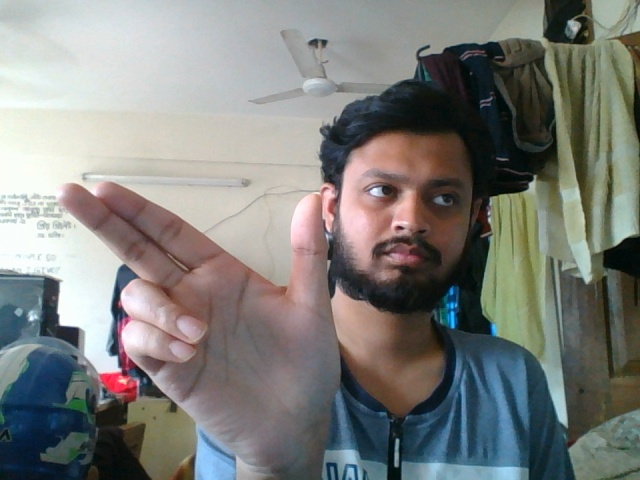jha: (43, 173, 344, 464)
